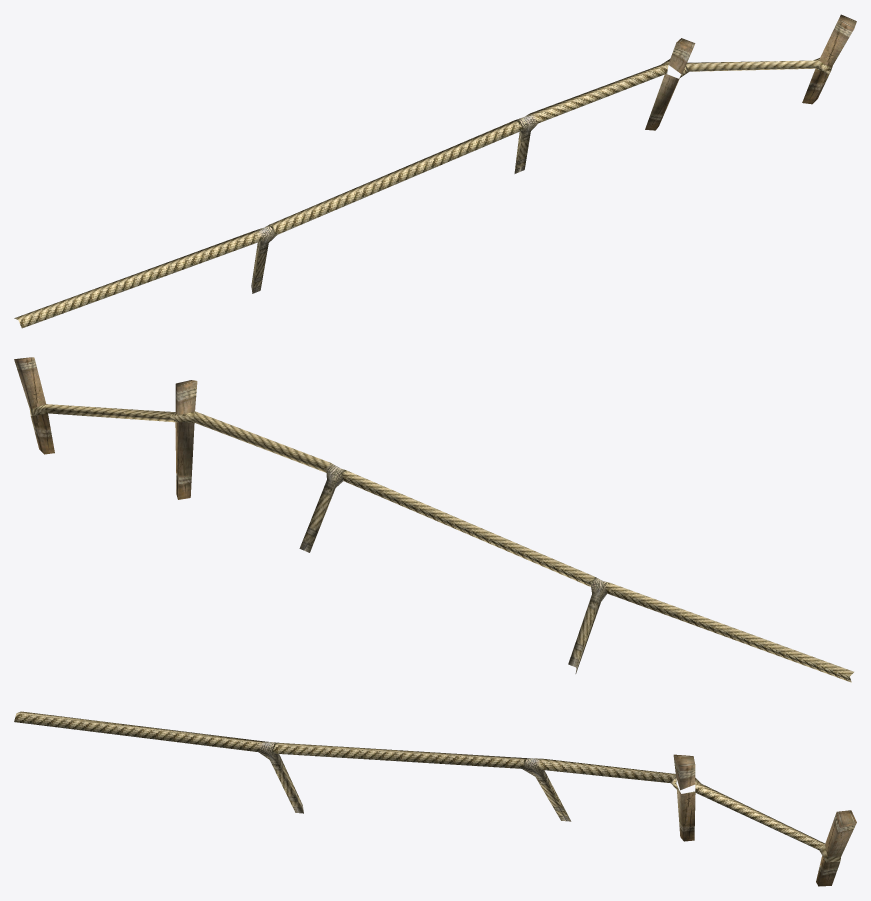
Rendered from Mission8_RopeBridge_A3.glb.
The picture shows the model from 3 angles, top to bottom: view 1: azimuth 30°, elevation 25°; view 2: azimuth 150°, elevation 25°; view 3: azimuth 330°, elevation 25°; orthographic projection.
Parts seen in each view (by area): view 1: MISSION8_ROPEBRIDGE_A3; view 2: MISSION8_ROPEBRIDGE_A3; view 3: MISSION8_ROPEBRIDGE_A3.
Boxes of the visible parts, x1,y1,x2,y2 form: MISSION8_ROPEBRIDGE_A3: [14, 14, 856, 328]; MISSION8_ROPEBRIDGE_A3: [14, 357, 853, 682]; MISSION8_ROPEBRIDGE_A3: [14, 711, 856, 886].
Size of the model in its own units: 12.88 by 2.56 by 0.878.
Materials: 4 (4 with a texture image).
